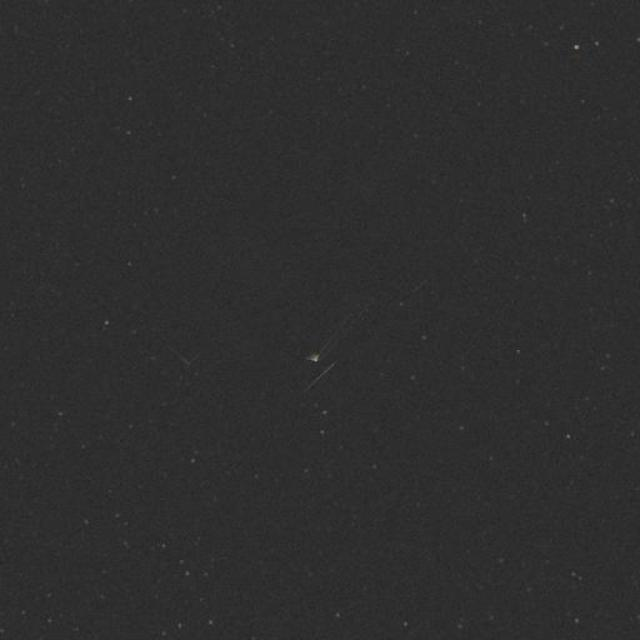proba_3_ocs: (191, 240, 390, 383)
